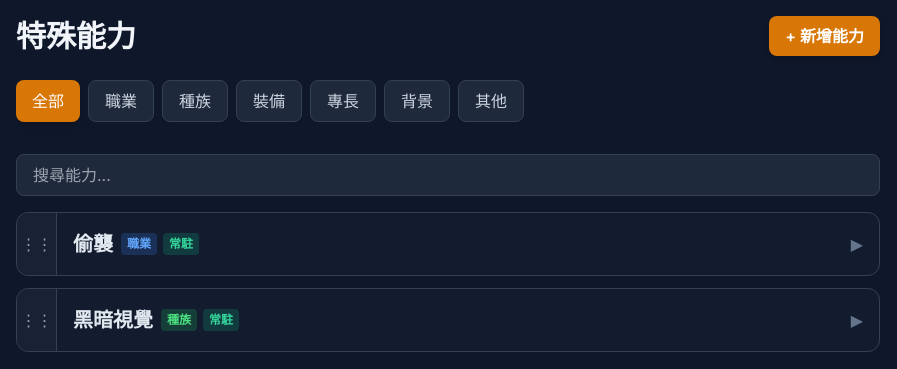
Scenario: AbilitiesPage - 來源篩選 › 選「職業」時應只顯示來源為職業的能力
Expected: the heading "偷襲" is shown, top-left (73, 229), bottom-right (113, 259)
Expected: the heading "黑暗視覺" is shown, top-left (73, 305), bottom-right (153, 335)
Click the button "職業".
click(121, 101)  # box top-left (88, 80), bottom-right (154, 122)
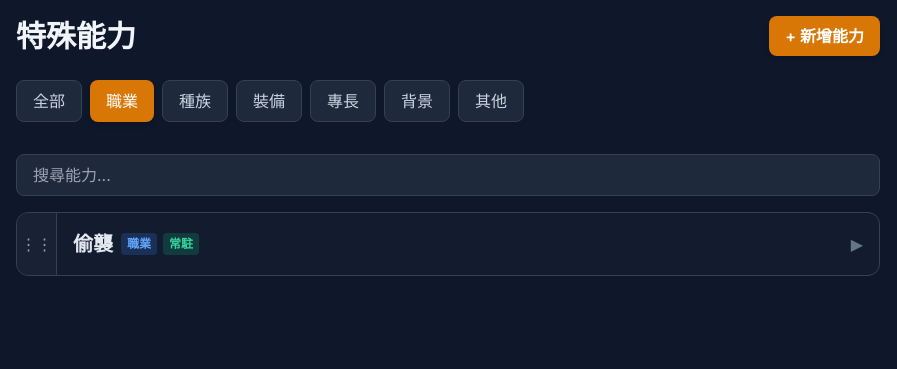
Expected: the heading "偷襲" is shown, top-left (73, 229), bottom-right (113, 259)
Expected: the button "黑暗視覺" is gone
